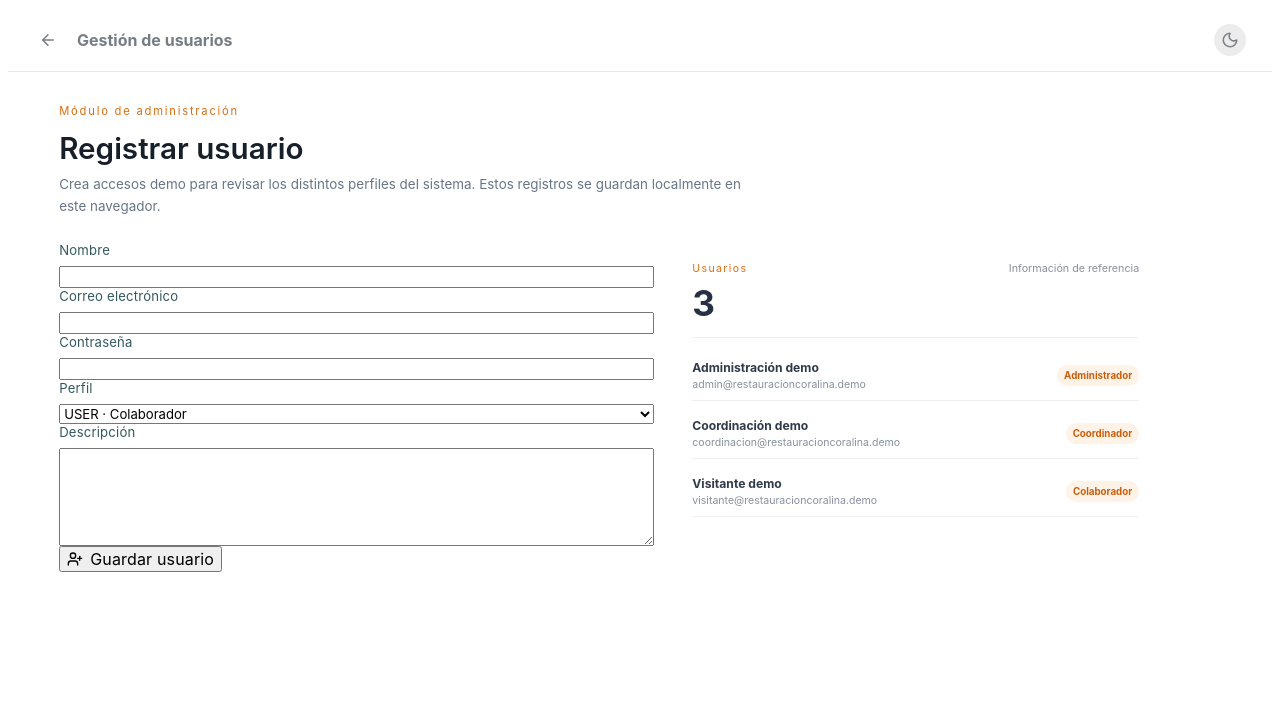
Test: AdminUsersPage › registra un nuevo usuario y lo muestra en la lista
This screenshot has width=1280, height=720.
Type "Nuevo colaborador" into the field labelled "Nombre" at (357, 277), box [59,266,654,288]
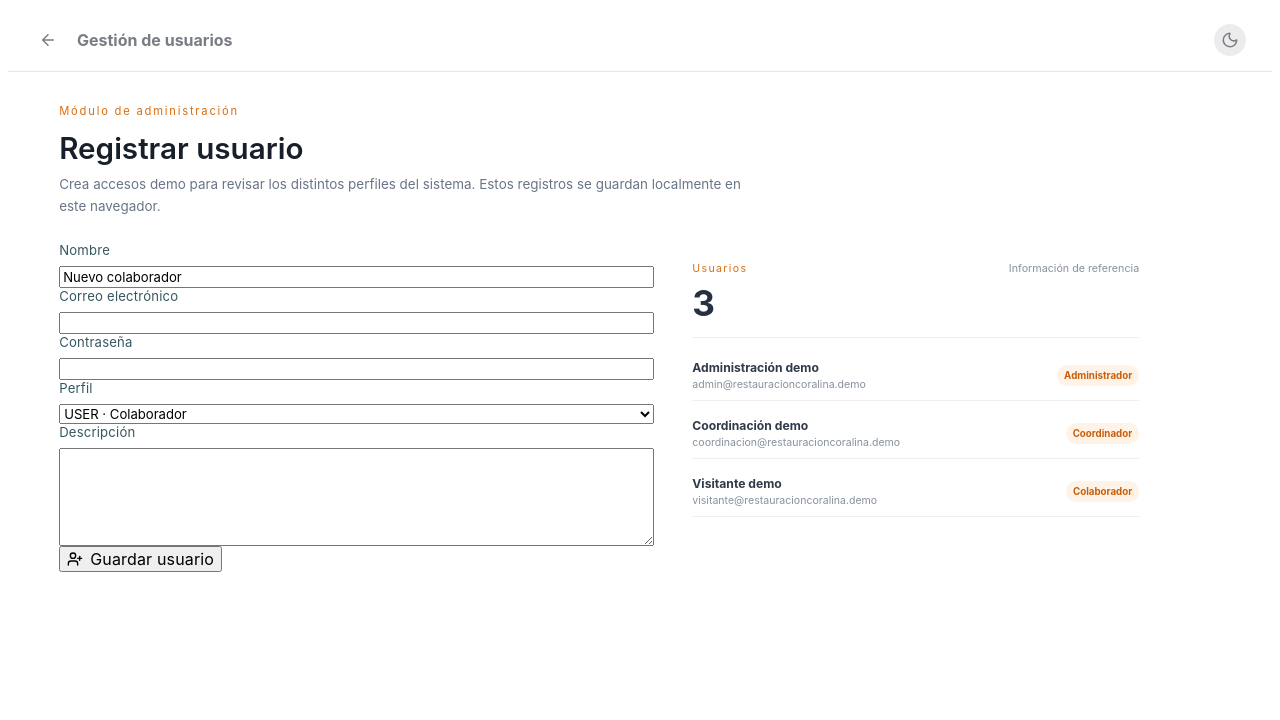
Type "nuevo@demo.local" into the field labelled "Correo electrónico" at (357, 323), box [59,312,654,334]
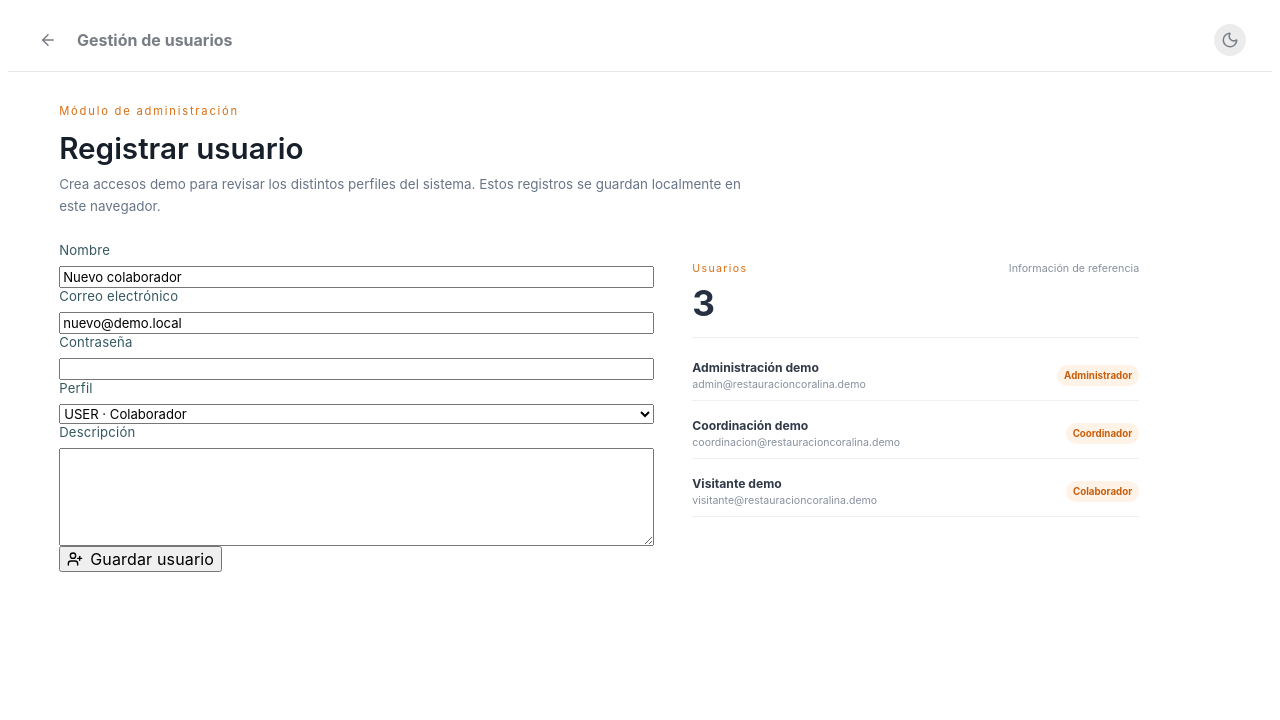
Type "NuevaClave2026!" into the password field labelled "Contraseña" at (357, 369), box [59,358,654,380]
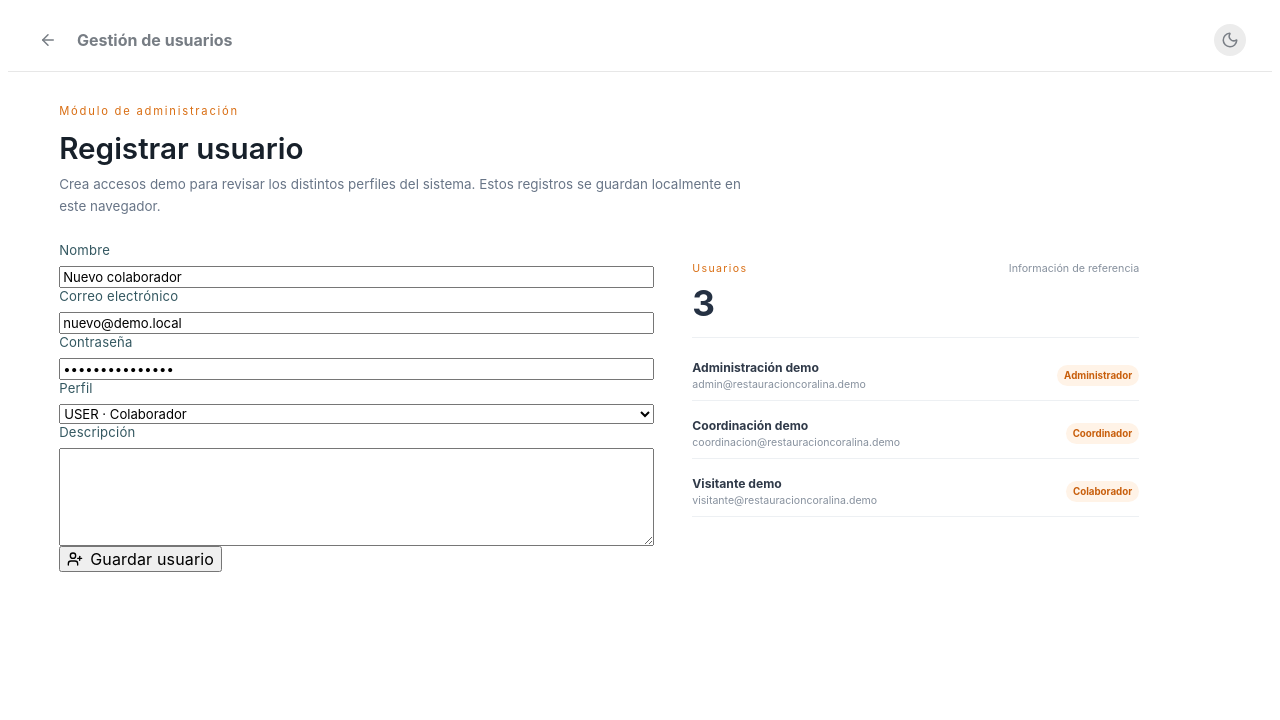
Click the button "Guardar usuario" at (141, 559), box [59,546,222,572]
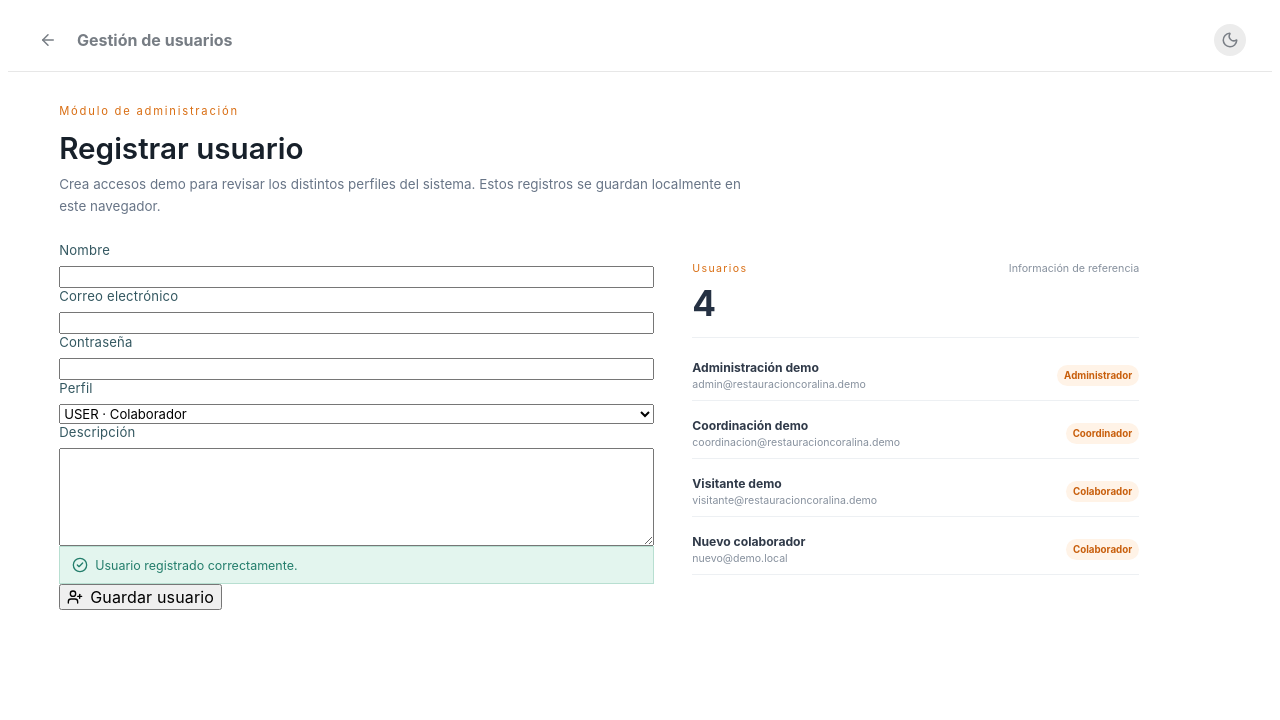
Expected: the message shows "Usuario registrado", [95,558,298,572]
Expected: the text "nuevo@demo.local" is shown, [692,552,788,565]
